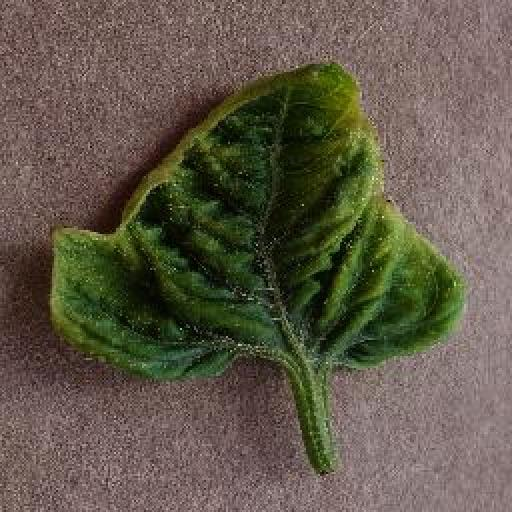disease_tomato: (46, 58, 474, 384)
